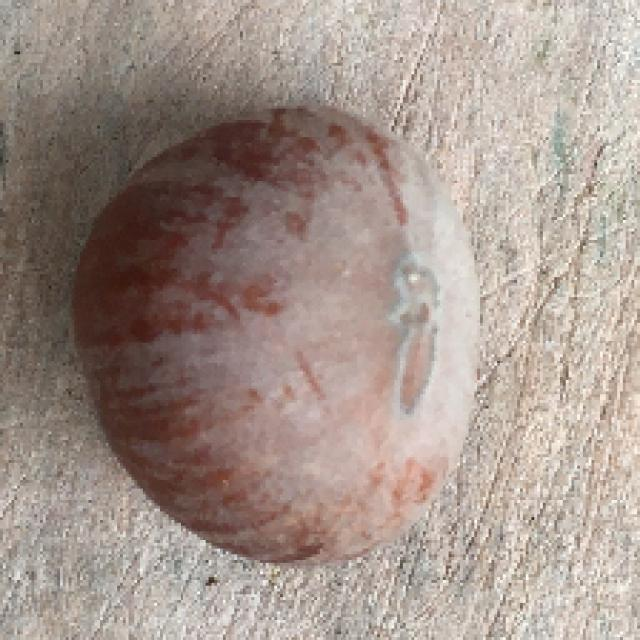qualityHazelnut: (66, 106, 489, 564)
